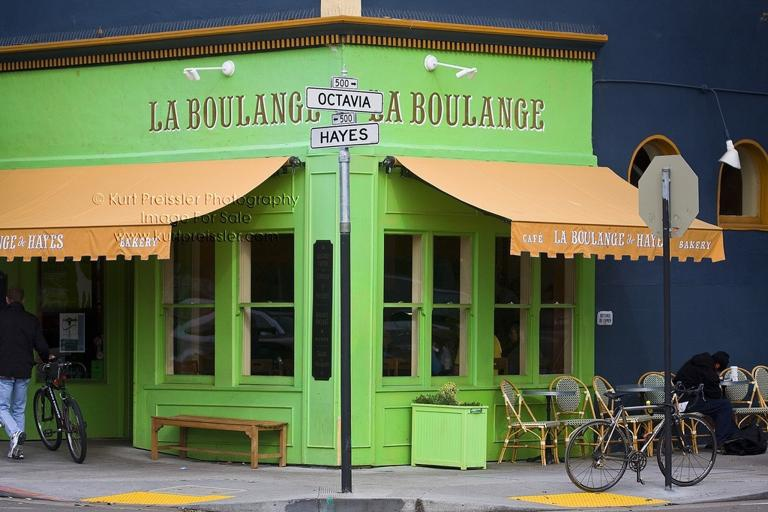non-vehicle: (563, 380, 718, 493), (32, 356, 87, 464)
